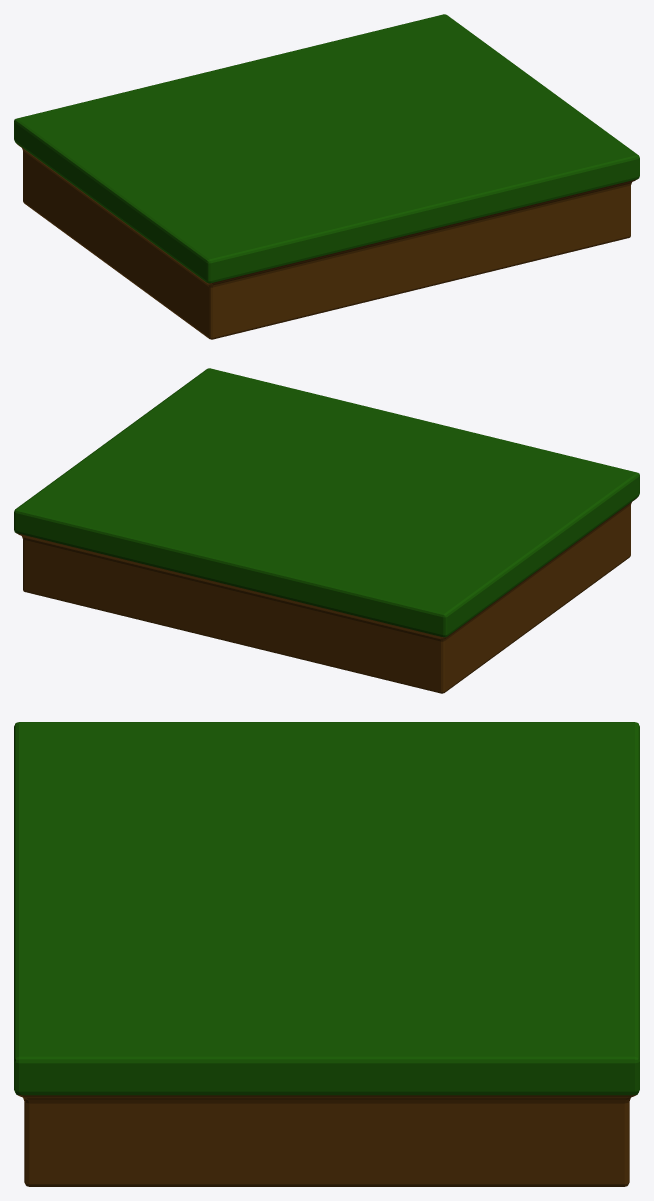
Rendered from platform Block Type 1.fbx.
3 renders of one model, top to bottom at view 1: azimuth 30°, elevation 25°; view 2: azimuth 150°, elevation 25°; view 3: azimuth 270°, elevation 25°, orthographic. The views are drawn at different scales.
Parts seen in each view (by area): view 1: platformBlockType1; view 2: platformBlockType1; view 3: platformBlockType1.
Boxes of the visible parts, left/top/right/bottom form: platformBlockType1: left=14, top=14, right=639, bottom=339; platformBlockType1: left=14, top=368, right=639, bottom=693; platformBlockType1: left=14, top=722, right=639, bottom=1186.
Size of the model in its own units: 6.24 by 1.15 by 4.87.
